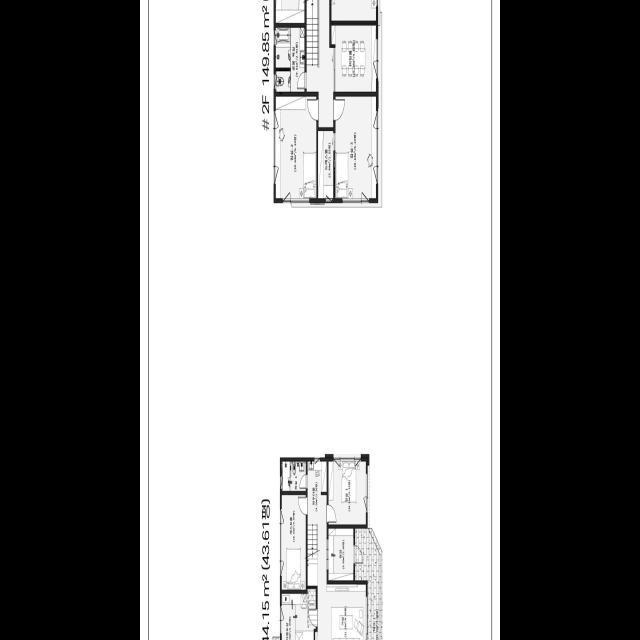background: (140, 0, 500, 640)
space_bedroom: (335, 96, 376, 198), (276, 96, 316, 198), (328, 461, 366, 524), (282, 494, 306, 589)
space_dressroom: (307, 461, 327, 524), (318, 130, 333, 198)
space_front: (328, 528, 353, 580)
space_living_room: (317, 524, 366, 640)
space_multipurpose_space: (282, 588, 316, 640)
space_other: (306, 0, 333, 127), (331, 25, 376, 91)
space_staircase: (307, 0, 319, 67), (308, 524, 318, 585)
space_toilet: (291, 27, 305, 91), (282, 461, 306, 490), (276, 27, 290, 67), (276, 71, 290, 91)
